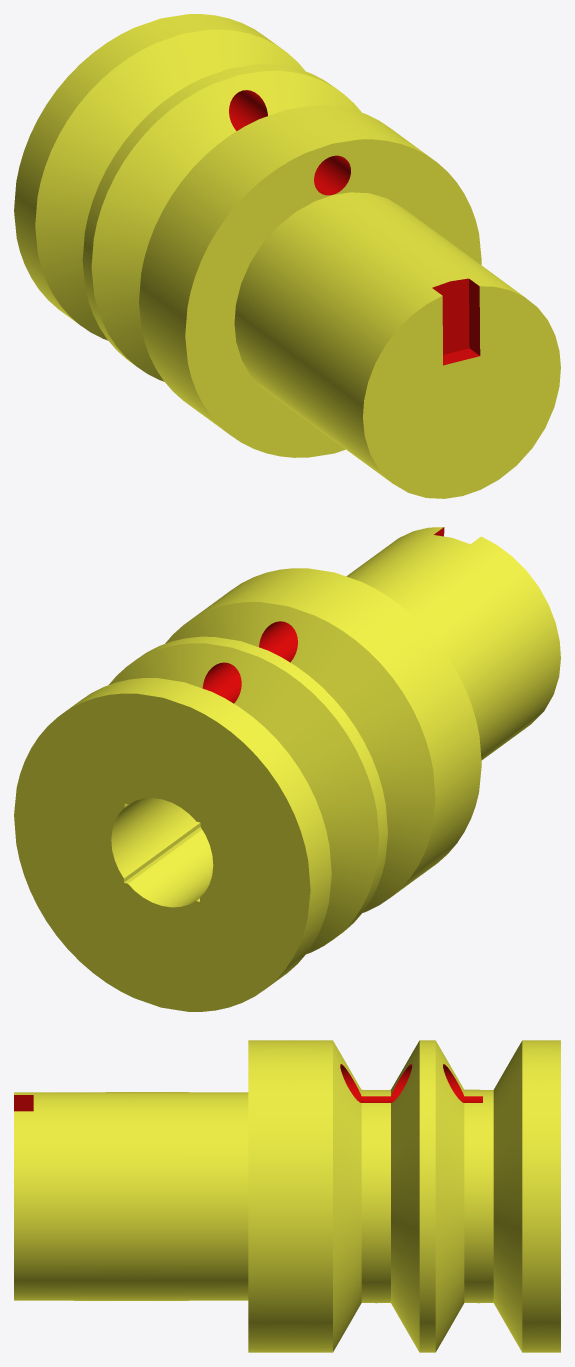
File: monte-charge1_poulie.2gltf.gltf
3 renders of one model, top to bottom at view 1: azimuth 30°, elevation 25°; view 2: azimuth 150°, elevation 25°; view 3: azimuth 270°, elevation 25°, orthographic. The views are drawn at different scales.
Visible parts, largest first — view 1: poulie; view 2: poulie; view 3: poulie.
Part boxes in pixels (x1,y1,x2,y2): poulie: (14,14,560,498); poulie: (14,527,560,1011); poulie: (14,1040,560,1352).
Bounding box in the file's own units: 0.016 × 0.016 × 0.028.
